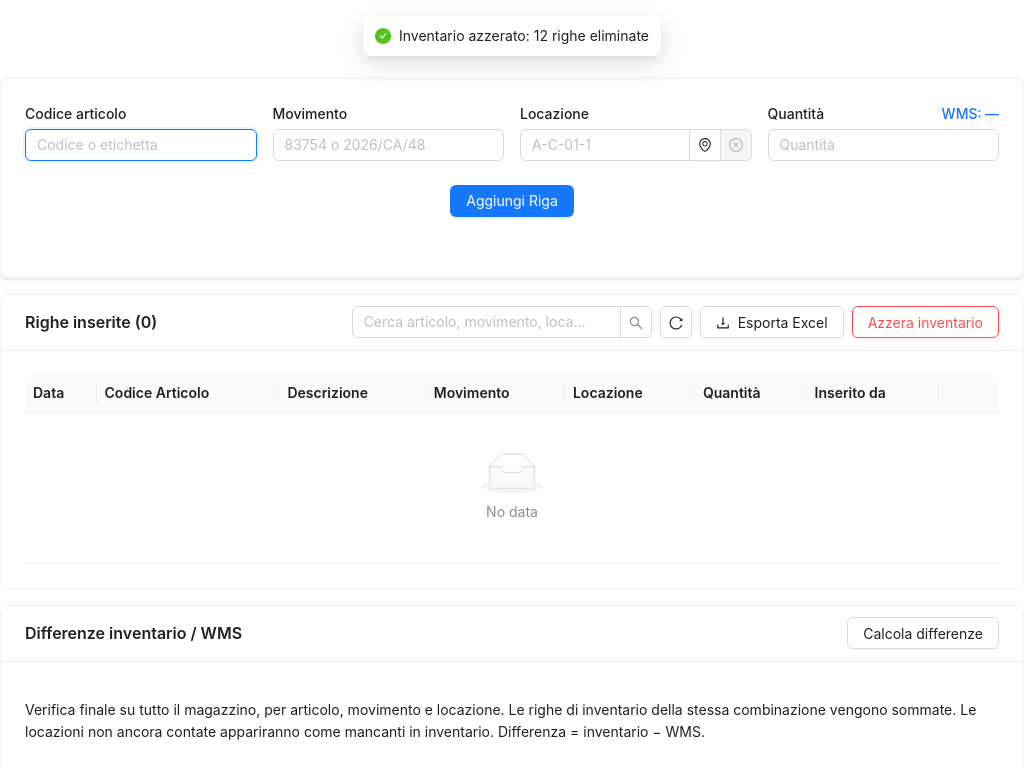
Test: loads the final differences summary on demand
Click the button "Calcola differenze" at (923, 633), box [847,617,999,649]
(page scrolled)
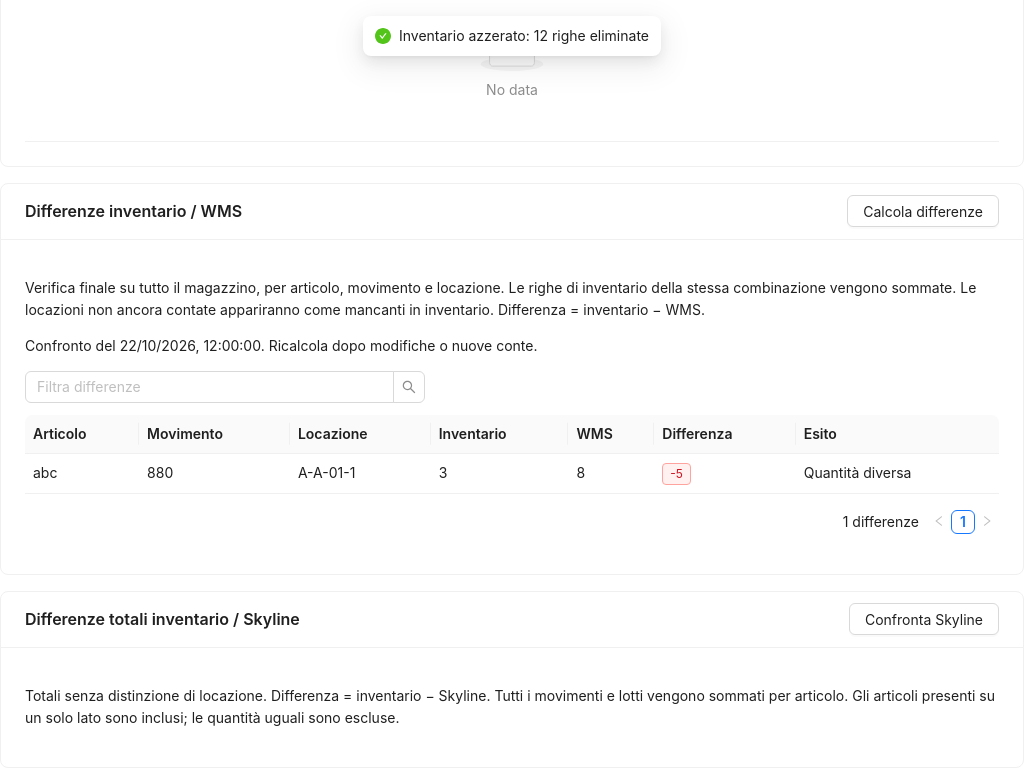
Check: the text "Quantità diversa" is shown, box [796,454,999,494]
Check: the text "A-A-01-1" is shown, box [290,454,431,494]
Check: the text "-5" is shown, box [662,463,691,485]
